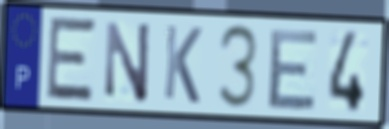3: (216, 21, 260, 113)
4: (326, 28, 368, 115)
E: (44, 14, 99, 104), (265, 27, 321, 111)
K: (161, 22, 204, 107)
N: (104, 19, 153, 107)
